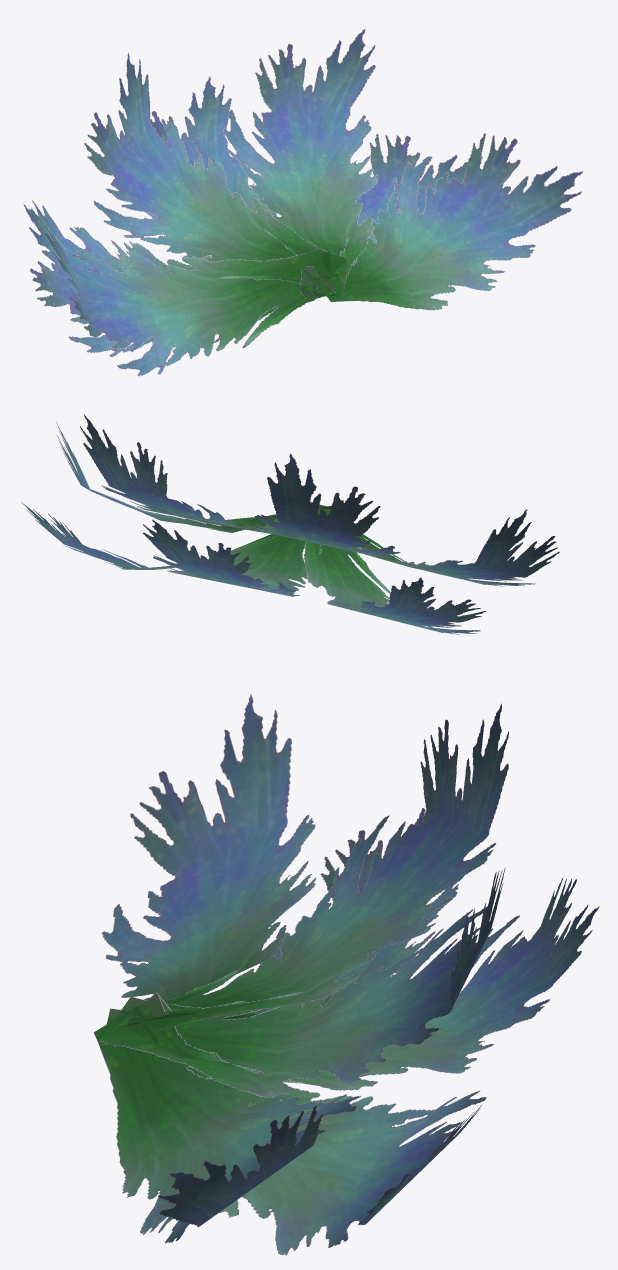
Rendered from Map_09_flower03.FBX.
3 renders of one model, top to bottom at view 1: azimuth 30°, elevation 25°; view 2: azimuth 150°, elevation 25°; view 3: azimuth 270°, elevation 25°, orthographic. The views are drawn at different scales.
Visible parts, largest first — view 1: Map_09_flower03; view 2: Map_09_flower03; view 3: Map_09_flower03.
Part boxes in pixels (<box>): Map_09_flower03: <box>23,28,582,376</box>; Map_09_flower03: <box>21,414,559,634</box>; Map_09_flower03: <box>93,694,599,1255</box>.
Bounding box in the file's own units: 562 × 333 × 234.
